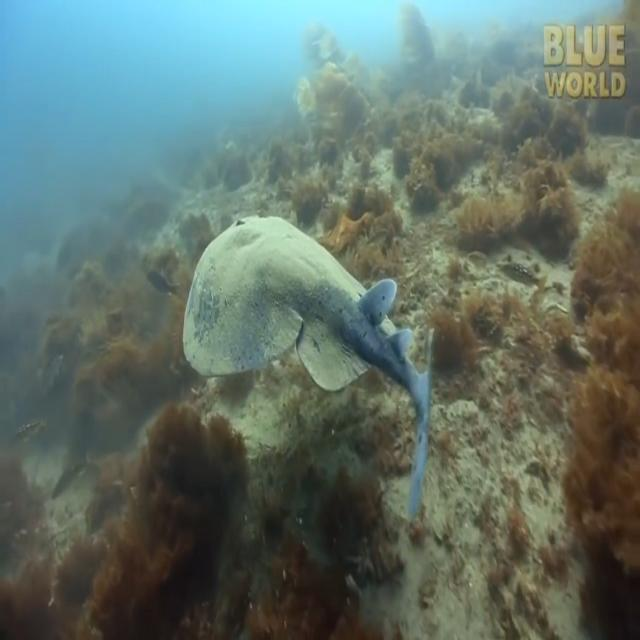Torpedo -Electrical-: (184, 215, 432, 524)
